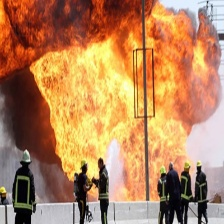fire: (3, 1, 223, 200)
